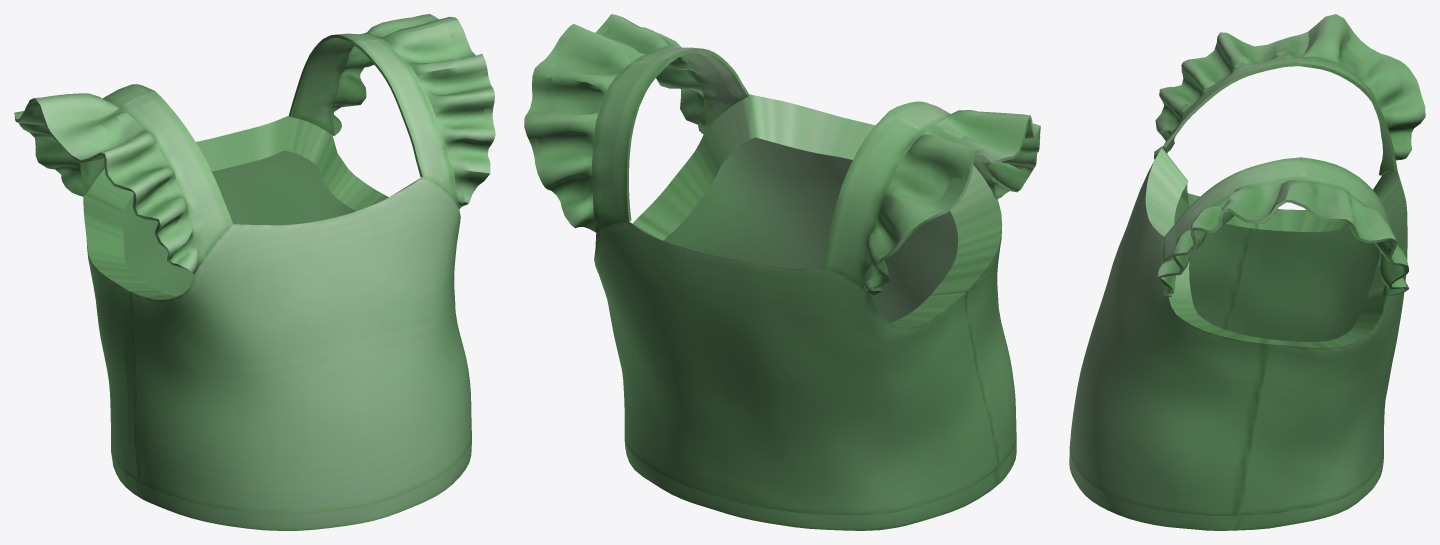
The model's file is top14.glb.
3 views of the same model, side by side, from view 1: azimuth 30°, elevation 25°; view 2: azimuth 150°, elevation 25°; view 3: azimuth 270°, elevation 25° (orthographic). The views are drawn at different scales.
Visible parts, largest first — view 1: s4studio_mesh_1; view 2: s4studio_mesh_1; view 3: s4studio_mesh_1.
Part boxes in pixels (x1=…): s4studio_mesh_1: x1=14, y1=14, x2=495, y2=530; s4studio_mesh_1: x1=524, y1=14, x2=1040, y2=530; s4studio_mesh_1: x1=1069, y1=14, x2=1425, y2=530.
Bounding box in the file's own units: 0.2275 × 0.1995 × 0.1808.
1 material, 1 textured.
